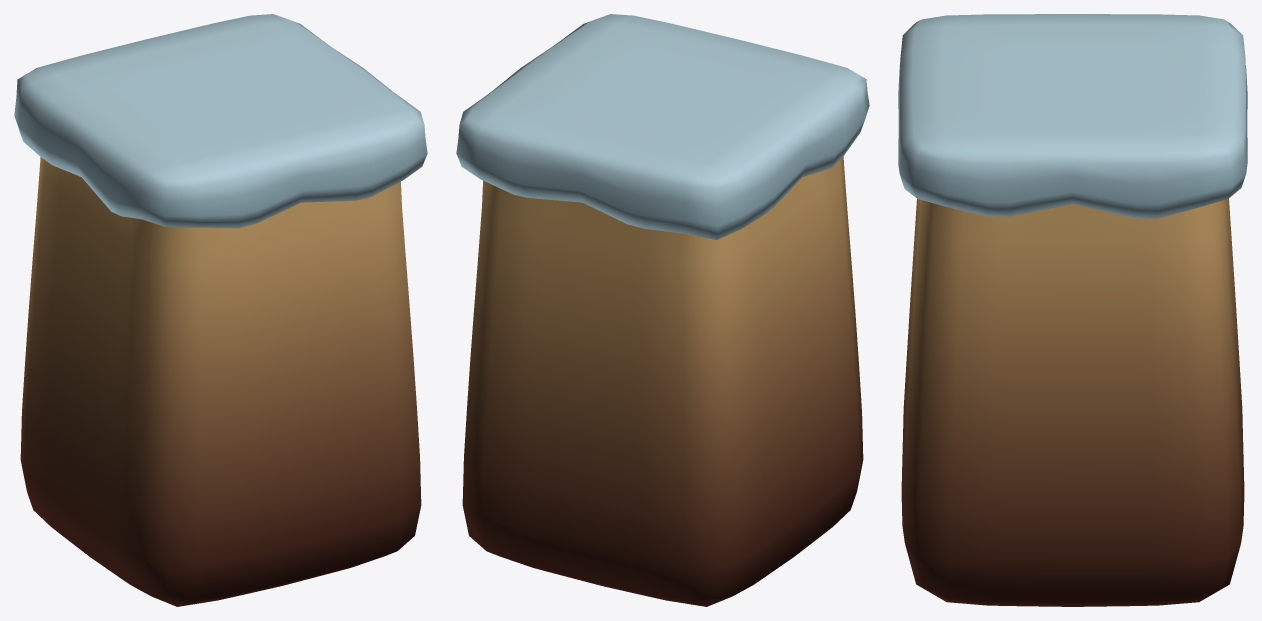
File: TileSnow_3m.fbx
3 renders of one model, left to right at view 1: azimuth 30°, elevation 25°; view 2: azimuth 150°, elevation 25°; view 3: azimuth 270°, elevation 25°, orthographic. The views are drawn at different scales.
Parts seen in each view (by area): view 1: TileSnow_3m; view 2: TileSnow_3m; view 3: TileSnow_3m.
Part boxes in pixels (x1,y1,x2,y2): TileSnow_3m: [14, 14, 427, 606]; TileSnow_3m: [456, 14, 869, 606]; TileSnow_3m: [898, 14, 1247, 606].
Size of the model in its own units: 2 by 3 by 2.
